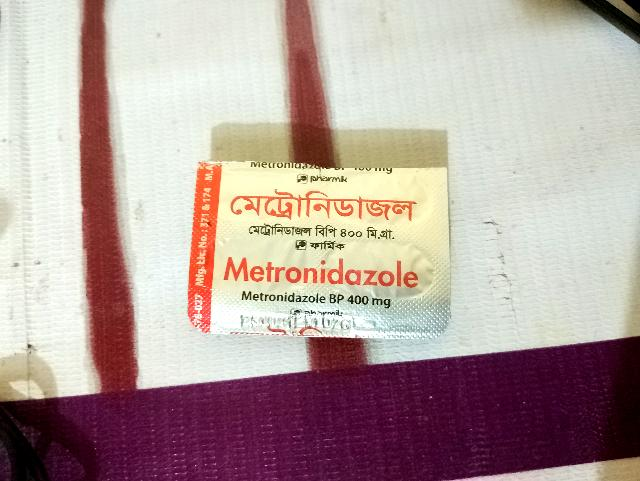medicine: (194, 154, 445, 338)
